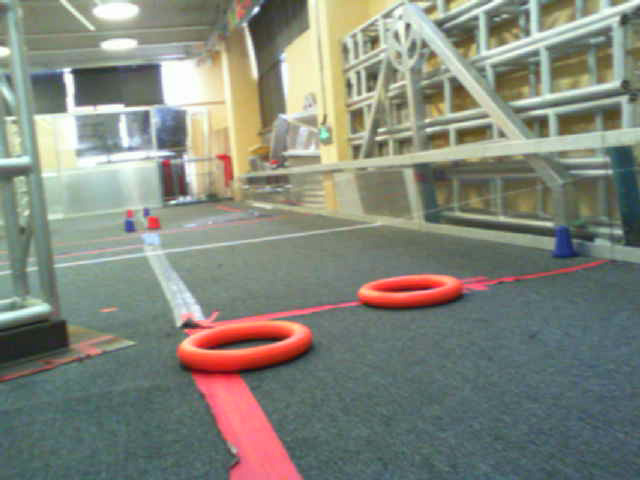Note: (179, 323, 321, 377), (361, 276, 471, 318)
